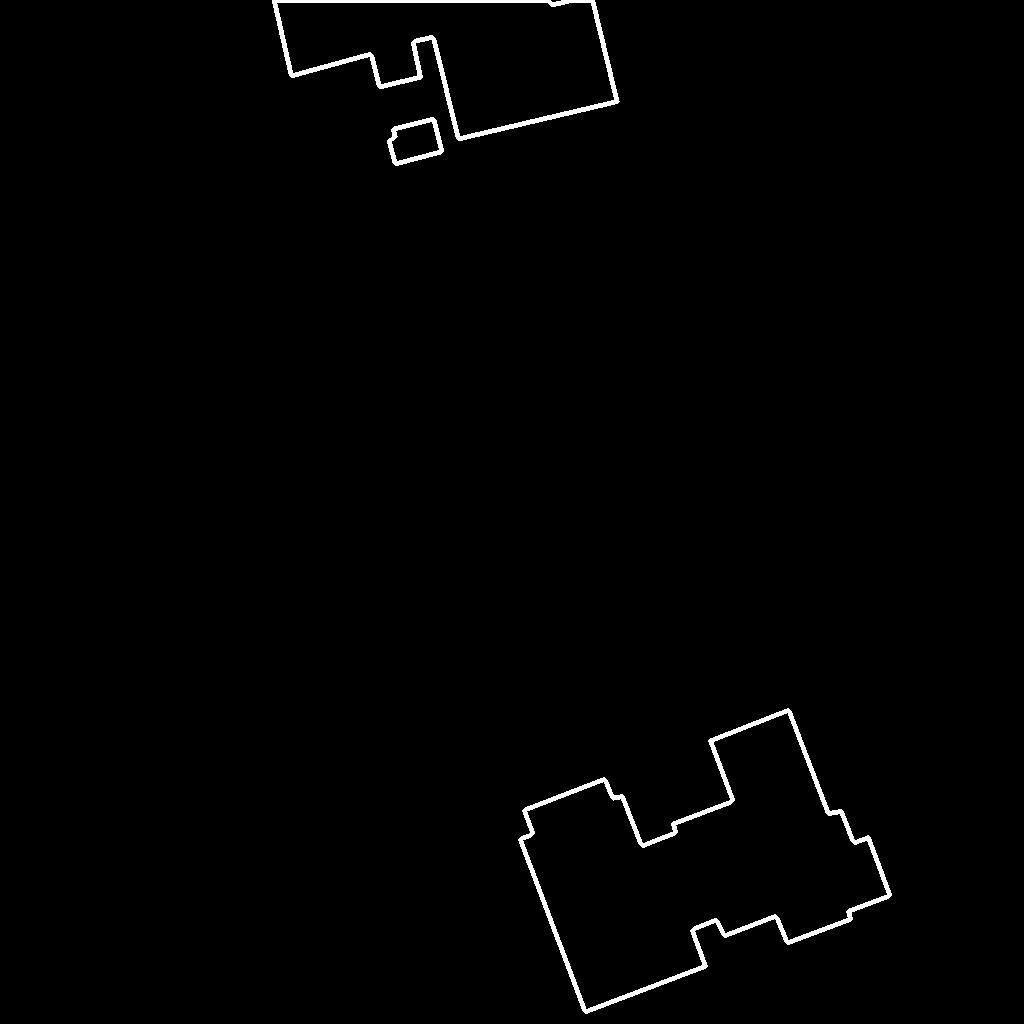building: (520, 710, 891, 1013), (274, 0, 618, 140), (389, 119, 443, 165)
